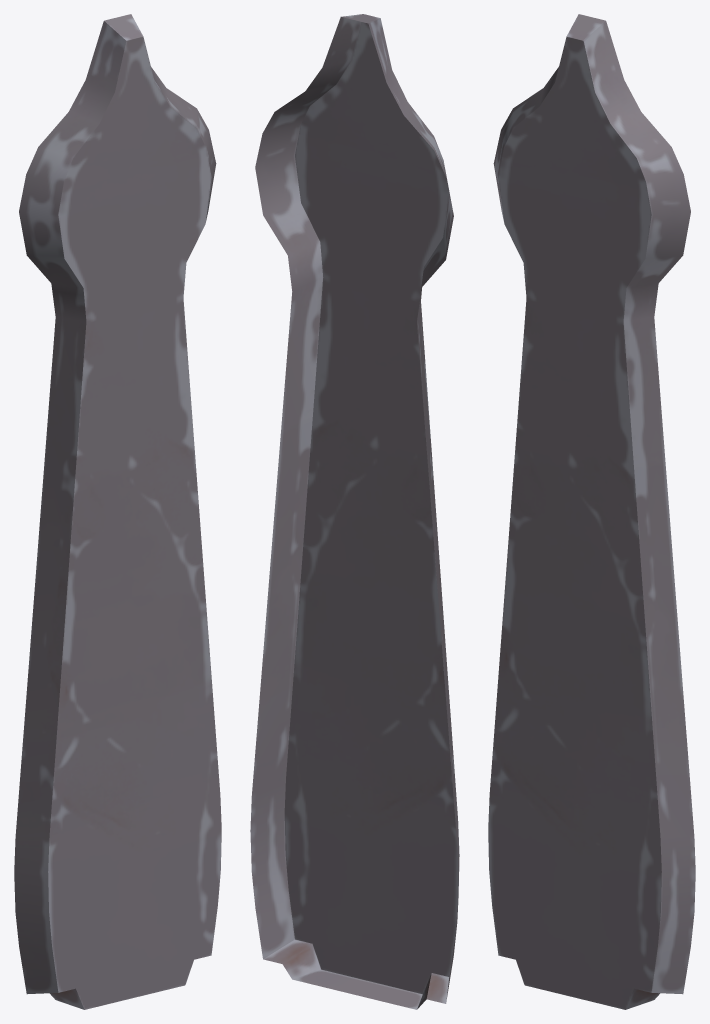
File: Parts_Hinge_Long.fbx
The picture shows the model from 3 angles, left to right: view 1: azimuth 30°, elevation 25°; view 2: azimuth 150°, elevation 25°; view 3: azimuth 330°, elevation 25°; orthographic projection.
Visible parts, largest first — view 1: Parts_Hinge_Long; view 2: Parts_Hinge_Long; view 3: Parts_Hinge_Long.
Boxes of the visible parts, bbox=[...] form: Parts_Hinge_Long: bbox=[14, 14, 221, 1009]; Parts_Hinge_Long: bbox=[250, 14, 459, 1009]; Parts_Hinge_Long: bbox=[488, 14, 695, 1009].
Size of the model in its own units: 10.4 by 46.52 by 1.52.
